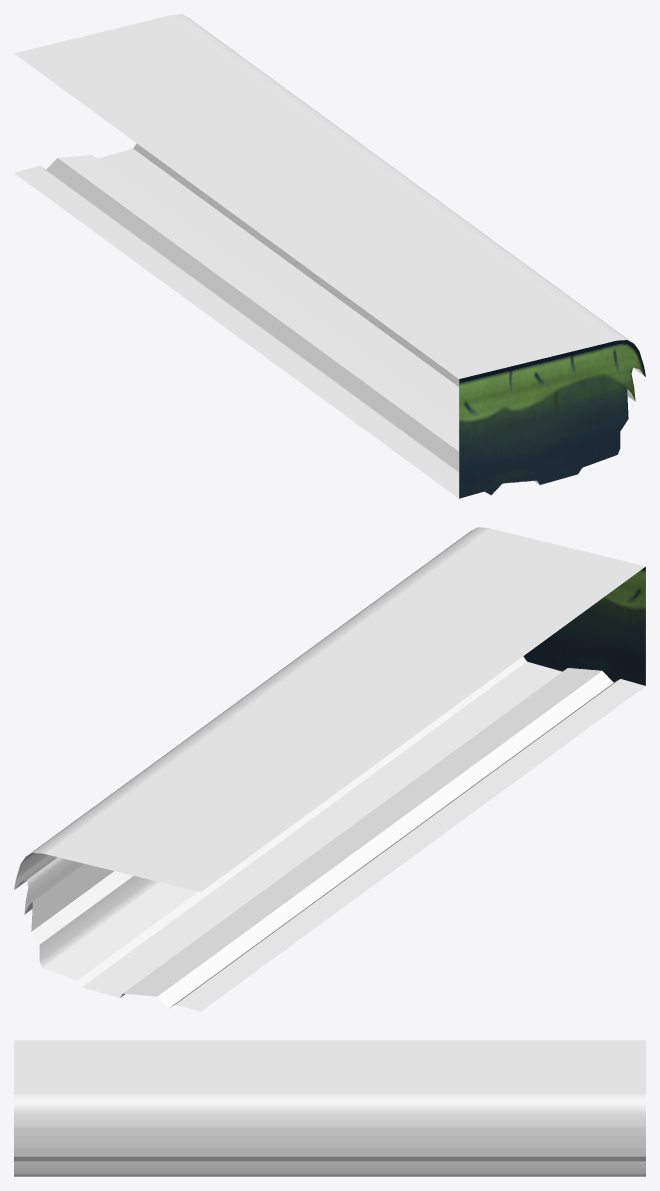
Rendered from Plataforma_01_TipRight_01.fbx.
The picture shows the model from 3 angles, top to bottom: view 1: azimuth 30°, elevation 25°; view 2: azimuth 150°, elevation 25°; view 3: azimuth 270°, elevation 25°; orthographic projection. The views are drawn at different scales.
Parts seen in each view (by area): view 1: Plataforma_TipRight_01; view 2: Plataforma_TipRight_01; view 3: Plataforma_TipRight_01.
Boxes of the visible parts, <box> form: Plataforma_TipRight_01: <box>14,14,645,498</box>; Plataforma_TipRight_01: <box>14,527,645,1011</box>; Plataforma_TipRight_01: <box>14,1040,645,1176</box>.
Bounding box in the file's own units: 3 × 1.93 × 12.37.
